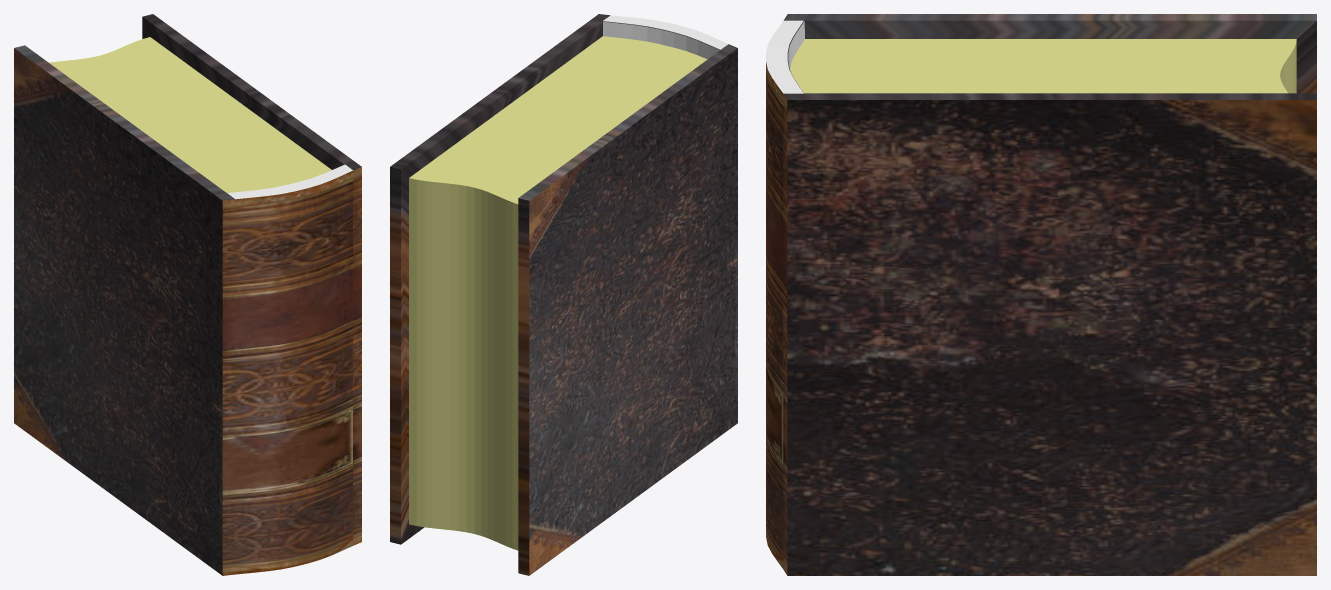
File: book01.fbx
3 views of the same model, side by side, from view 1: azimuth 30°, elevation 25°; view 2: azimuth 150°, elevation 25°; view 3: azimuth 270°, elevation 25° (orthographic). The views are drawn at different scales.
Visible parts, largest first — view 1: Cube; view 2: Cube; view 3: Cube.
Part boxes in pixels (left/top/right/bottom): Cube: left=14, top=14, right=361, bottom=575; Cube: left=390, top=14, right=737, bottom=575; Cube: left=766, top=14, right=1316, bottom=575.
Size of the model in its own units: 84.08 by 217 by 227.
Materials: 2 (1 with a texture image).
